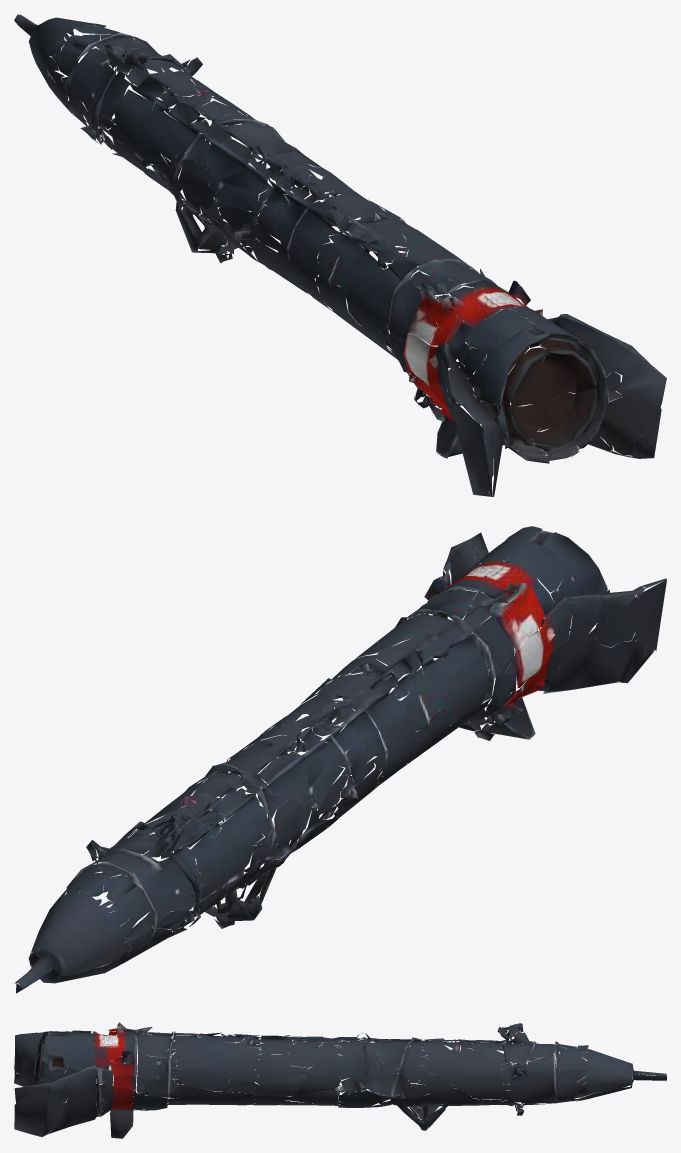
Rendered from missile.glb.
3 views of the same model, one above another, from view 1: azimuth 30°, elevation 25°; view 2: azimuth 150°, elevation 25°; view 3: azimuth 270°, elevation 25° (orthographic). The views are drawn at different scales.
Visible parts, largest first — view 1: tripo_node_5da322d9-6992-47ab-8c67-465569f64e42; view 2: tripo_node_5da322d9-6992-47ab-8c67-465569f64e42; view 3: tripo_node_5da322d9-6992-47ab-8c67-465569f64e42.
Part boxes in pixels (<box>): tripo_node_5da322d9-6992-47ab-8c67-465569f64e42: <box>14,14,666,496</box>; tripo_node_5da322d9-6992-47ab-8c67-465569f64e42: <box>14,526,666,993</box>; tripo_node_5da322d9-6992-47ab-8c67-465569f64e42: <box>14,1022,666,1138</box>.
Size of the model in its own units: 0.7778 by 0.6655 by 4.
1 material, 1 textured.
